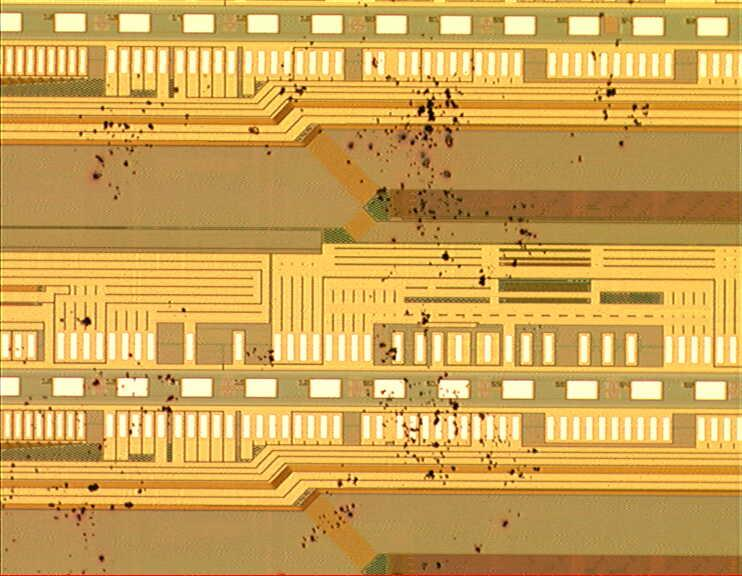PO CONTAMINATION: (4, 1, 652, 576)
